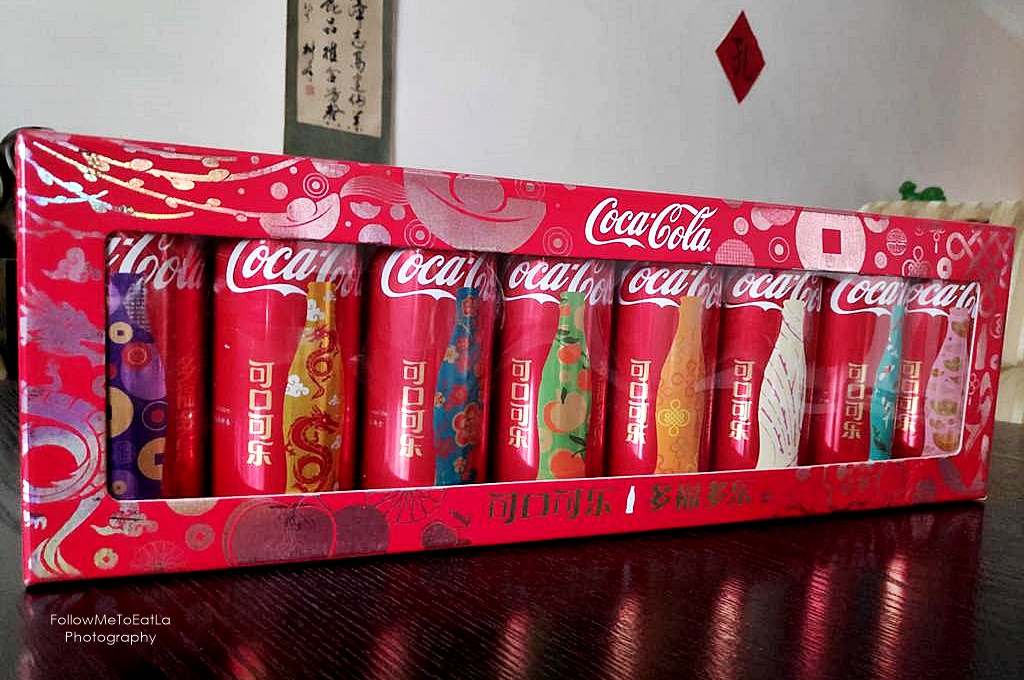cocacola_blue_fish: (829, 268, 907, 478)
cocacola_blue_flowers: (374, 240, 492, 499)
cocacola_green_apples: (502, 243, 608, 490)
cocacola_pink_feather: (916, 277, 969, 462)
cocacola_violet_balls: (85, 210, 213, 522)
cocacola_white_lines: (729, 260, 816, 480)
cocacola_yellow_dragons: (216, 228, 367, 509)
cocacola_yellow_pattern: (619, 250, 719, 482)
